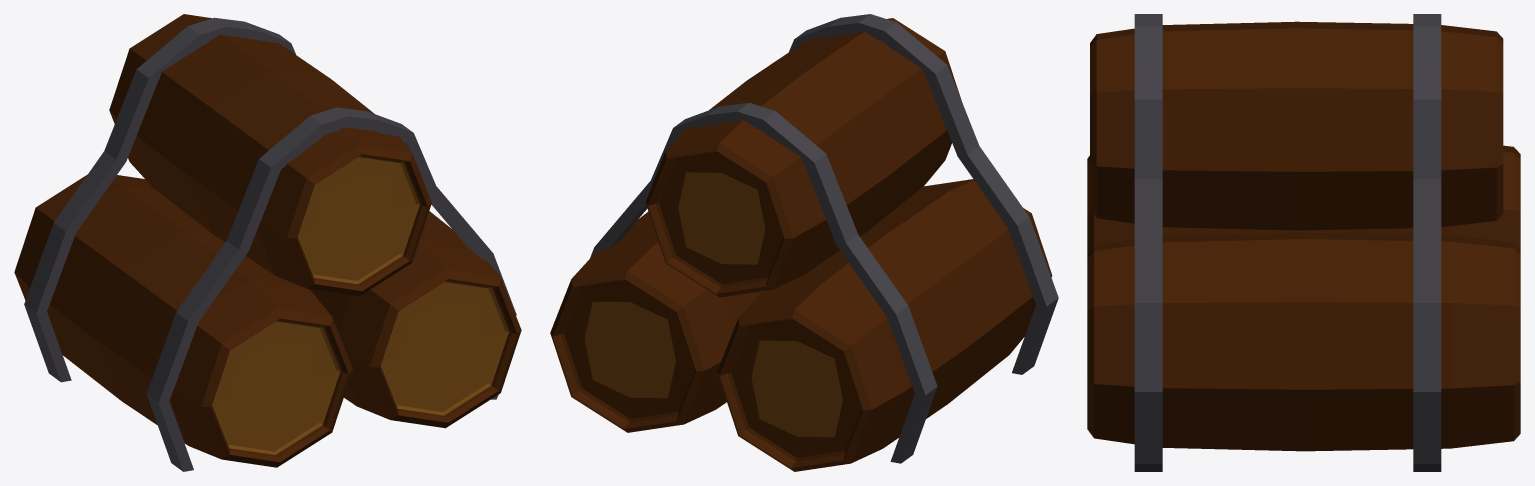
File: Logs.fbx
3 views of the same model, side by side, from view 1: azimuth 30°, elevation 25°; view 2: azimuth 150°, elevation 25°; view 3: azimuth 270°, elevation 25° (orthographic). The views are drawn at different scales.
Visible parts, largest first — view 1: Cube.010, Cube.012, Cube.011, Cube.013, Cube.014; view 2: Cube.010, Cube.012, Cube.011, Cube.014, Cube.013; view 3: Cube.011, Cube.012, Cube.013, Cube.014, Cube.010.
Part boxes in pixels (box(x1,y1,x2,y2)): Cube.010: box(14, 174, 352, 467); Cube.012: box(109, 14, 431, 296); Cube.011: box(309, 211, 521, 428); Cube.013: box(146, 107, 516, 471); Cube.014: box(24, 17, 295, 382); Cube.010: box(717, 179, 1052, 471); Cube.012: box(645, 18, 961, 297); Cube.011: box(550, 211, 762, 432); Cube.014: box(590, 102, 937, 463); Cube.013: box(789, 14, 1058, 374); Cube.011: box(1087, 232, 1520, 451); Cube.012: box(1090, 21, 1503, 230); Cube.013: box(1134, 14, 1162, 471); Cube.014: box(1413, 14, 1441, 471); Cube.010: box(1087, 145, 1520, 253).
Size of the model in its own units: 102 by 89.8 by 94.25.
